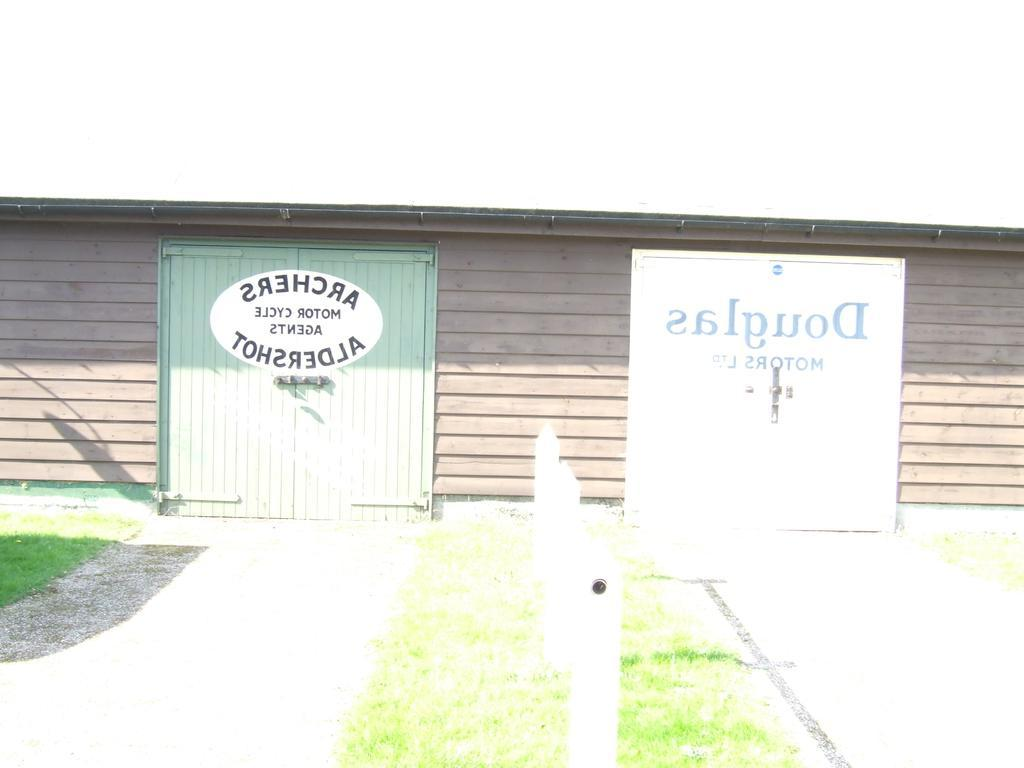door: (630, 271, 766, 529), (760, 264, 893, 524), (164, 257, 293, 516), (306, 258, 430, 506)
handle: (762, 374, 786, 424), (277, 372, 332, 392)
